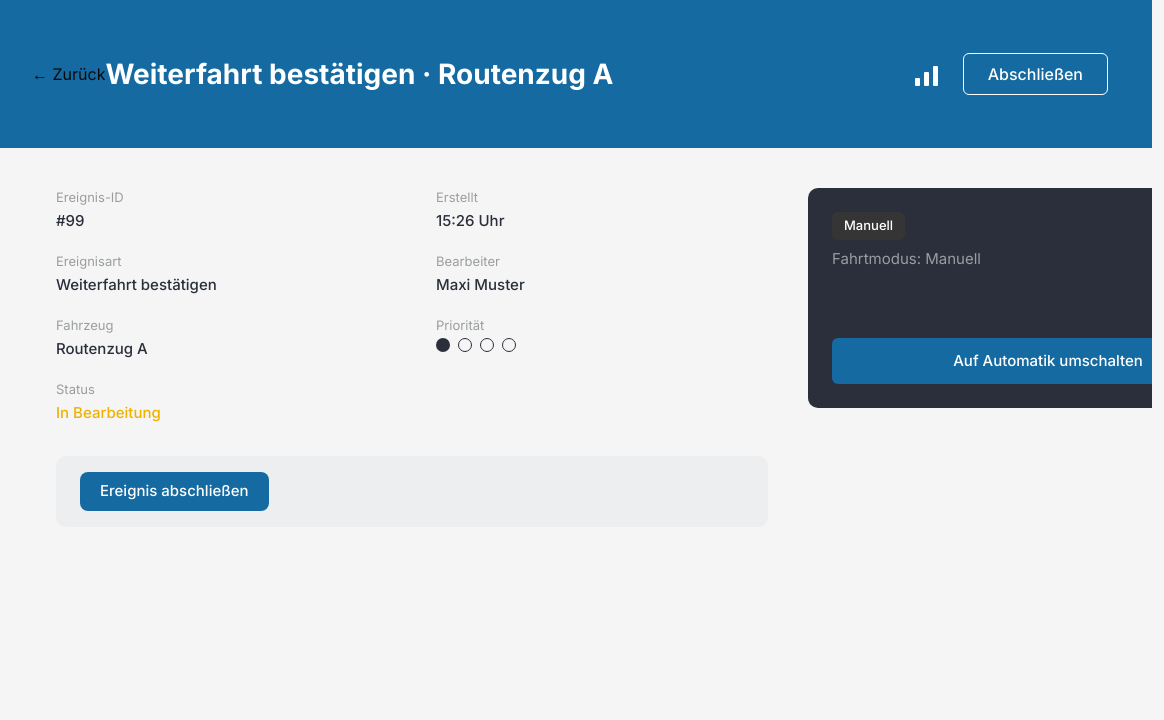
ER-02 — EreignisDetailPage — Status-Workflow: in-bearbeitung → Bestätigung › 'Ereignis abschließen' zeigt Bestätigungsfrage (kein sofortiger Abschluss)
Click the button "Ereignis abschließen" at (174, 491), box [80,472,268,510]
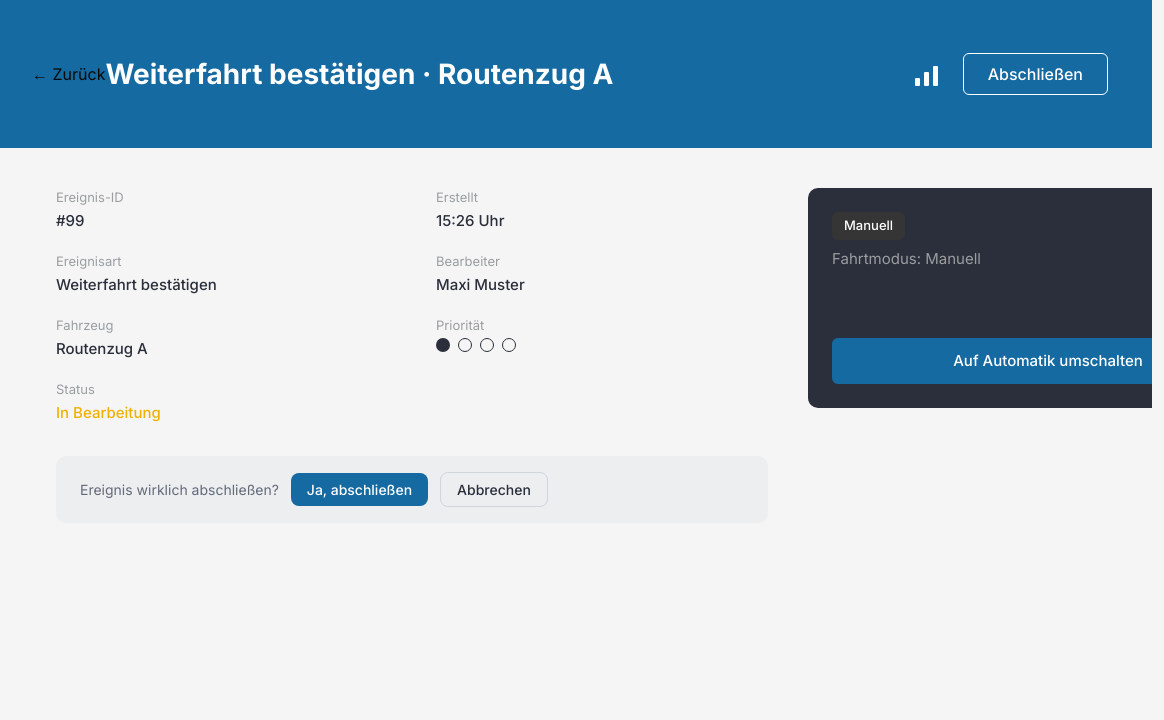
Check: the text "Ereignis wirklich abschließen?" is shown, box [80,479,279,500]
